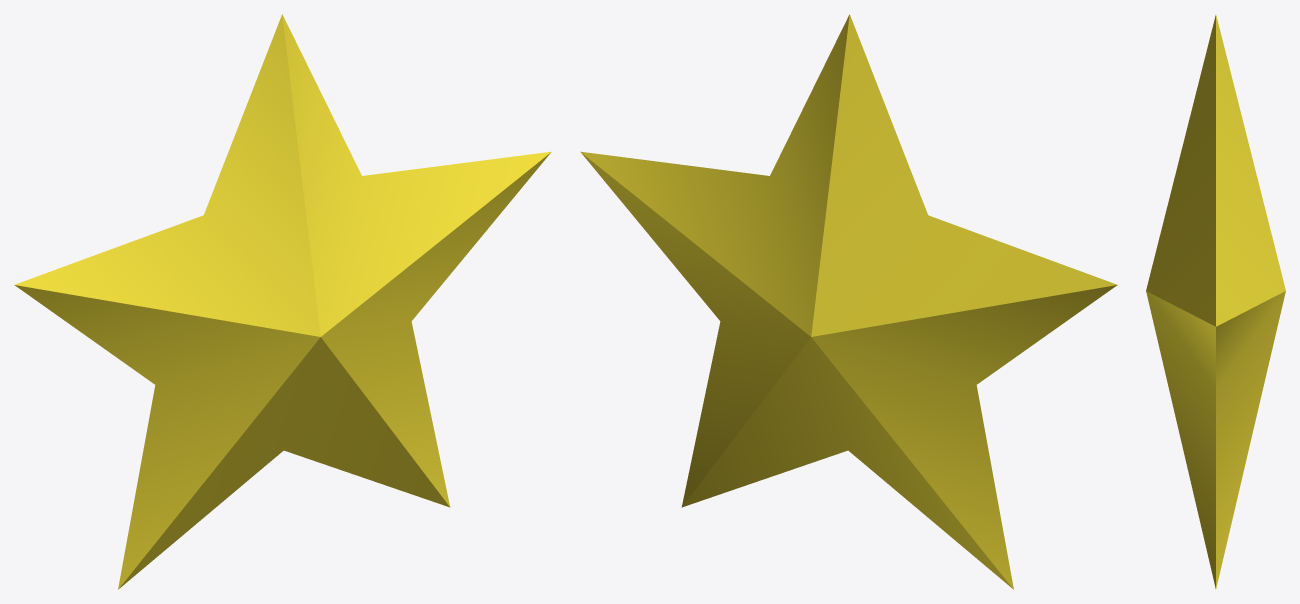
File: star.glb
3 views of the same model, side by side, from view 1: azimuth 30°, elevation 25°; view 2: azimuth 150°, elevation 25°; view 3: azimuth 270°, elevation 25° (orthographic). The views are drawn at different scales.
Visible parts, largest first — view 1: cerave-star; view 2: cerave-star; view 3: cerave-star.
Boxes of the visible parts, bbox=[...] form: cerave-star: bbox=[14, 14, 551, 589]; cerave-star: bbox=[580, 14, 1117, 589]; cerave-star: bbox=[1146, 15, 1285, 588].
Bounding box in the file's own units: 0.2749 × 0.2618 × 0.0664.
